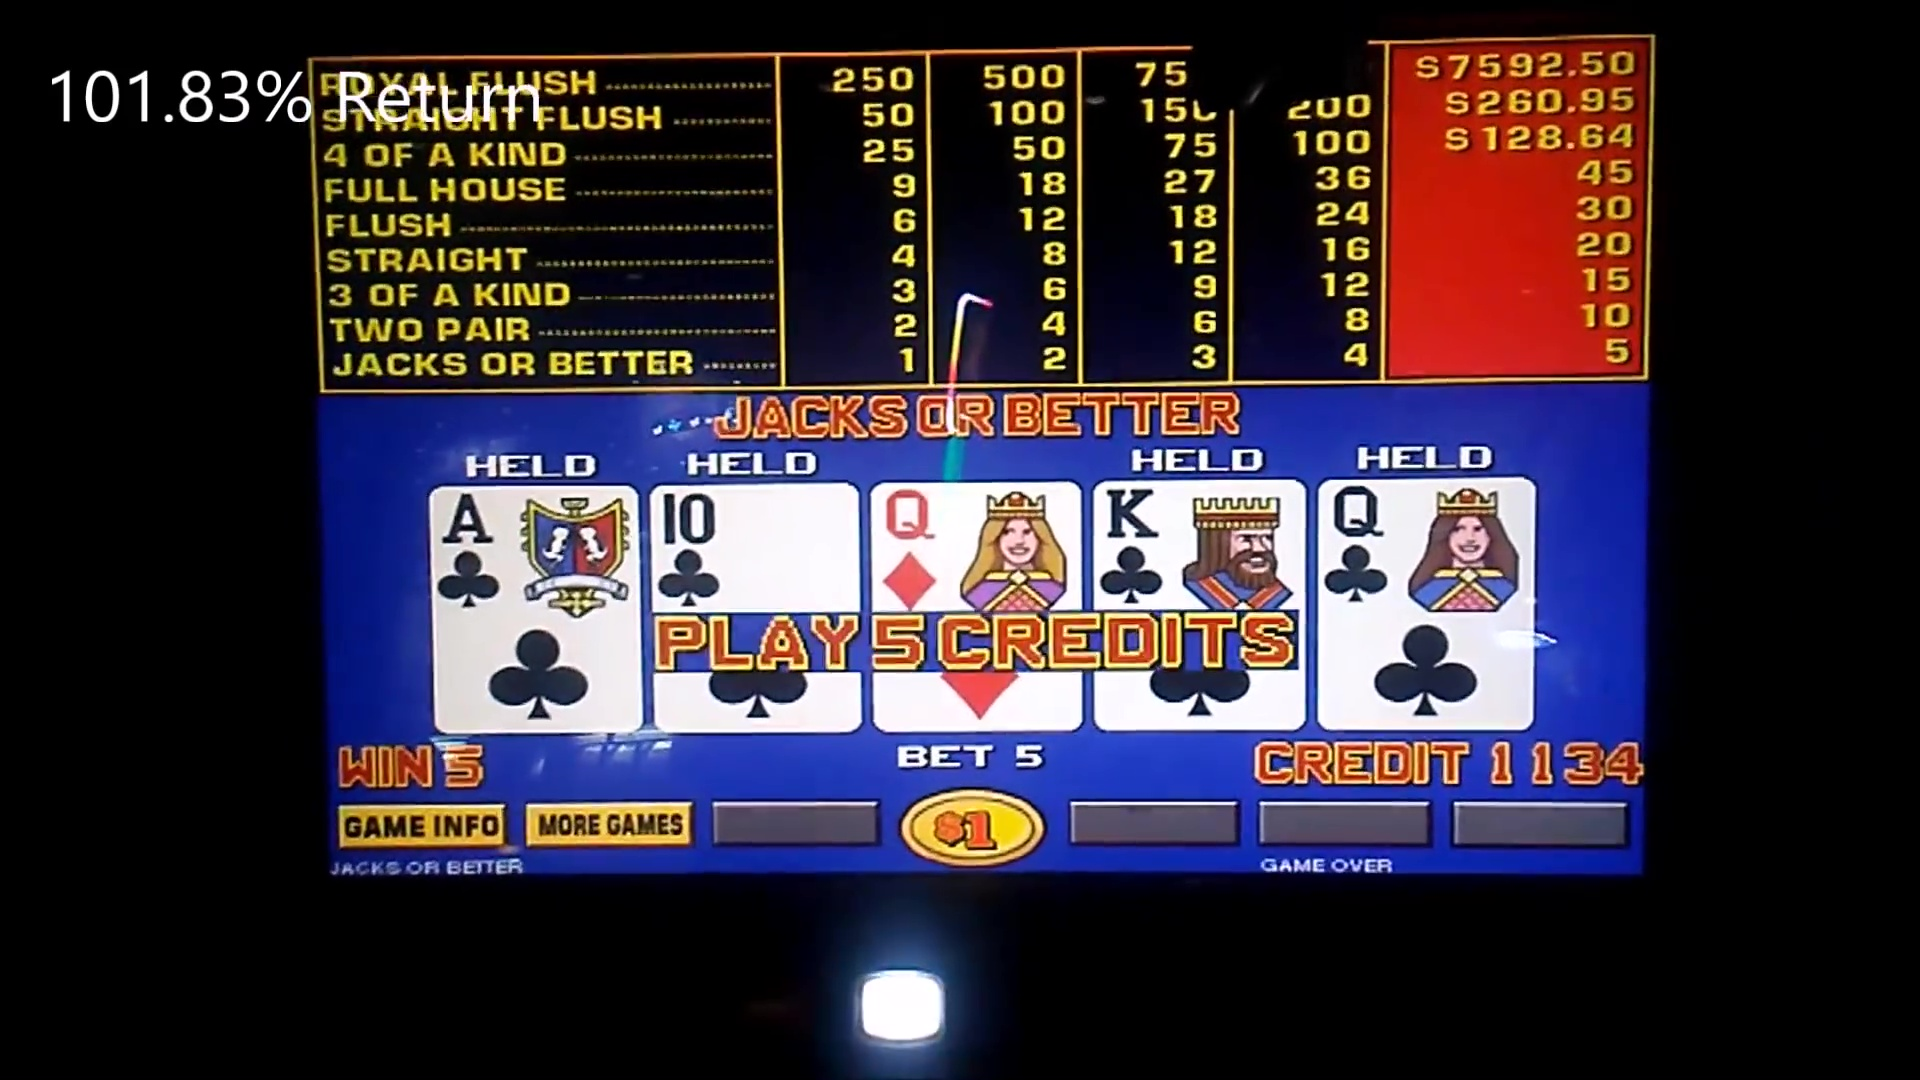AC: (433, 487, 640, 609)
KC: (1095, 480, 1305, 607)
QC: (1317, 481, 1530, 607)
QD: (877, 487, 1077, 611)
TC: (654, 487, 857, 607)
